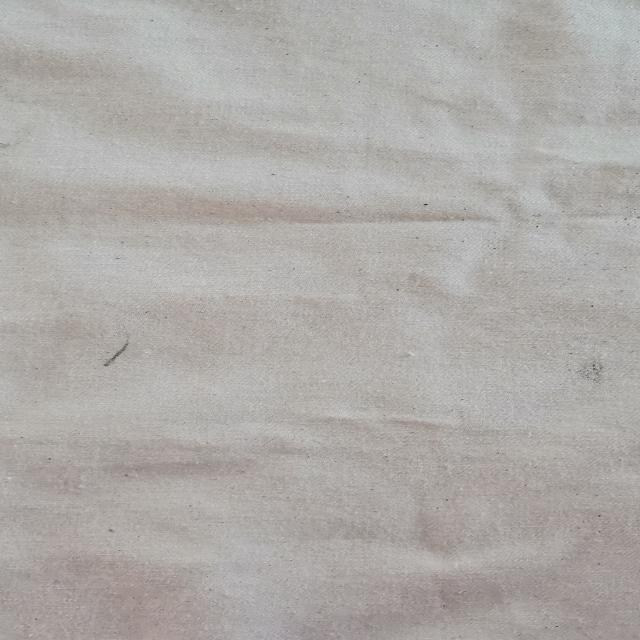taaaches: (64, 334, 162, 379), (561, 347, 621, 391)
